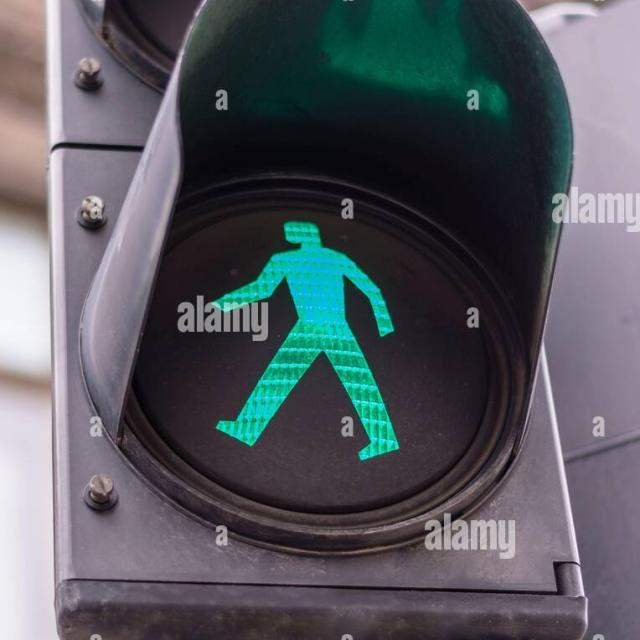green_light: (205, 188, 413, 483)
